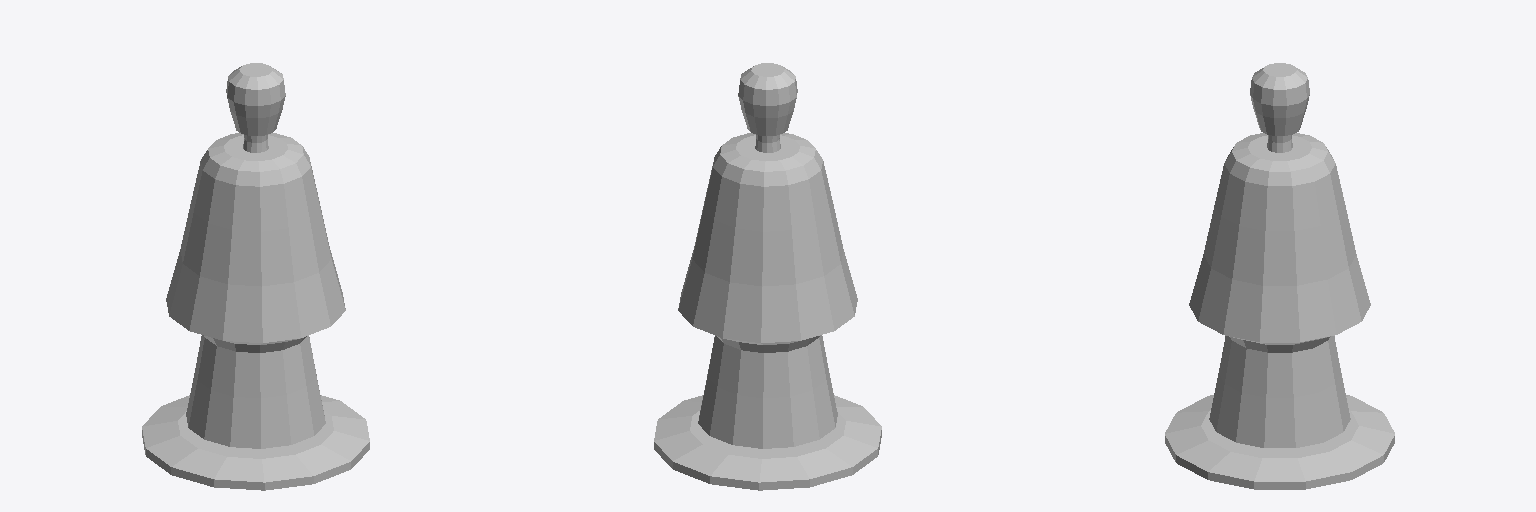
File: human-short_007.obj
The picture shows the model from 3 angles: view 1: azimuth 30°, elevation 25°; view 2: azimuth 150°, elevation 25°; view 3: azimuth 270°, elevation 25°; orthographic projection.
Visible parts, largest first — view 1: human-short.007; view 2: human-short.007; view 3: human-short.007.
Part boxes in pixels (x1,y1,x2,y2): human-short.007: (142,63,369,490); human-short.007: (654,63,881,490); human-short.007: (1165,63,1394,489).
Size of the model in its own units: 0.85 by 1.55 by 0.8719.